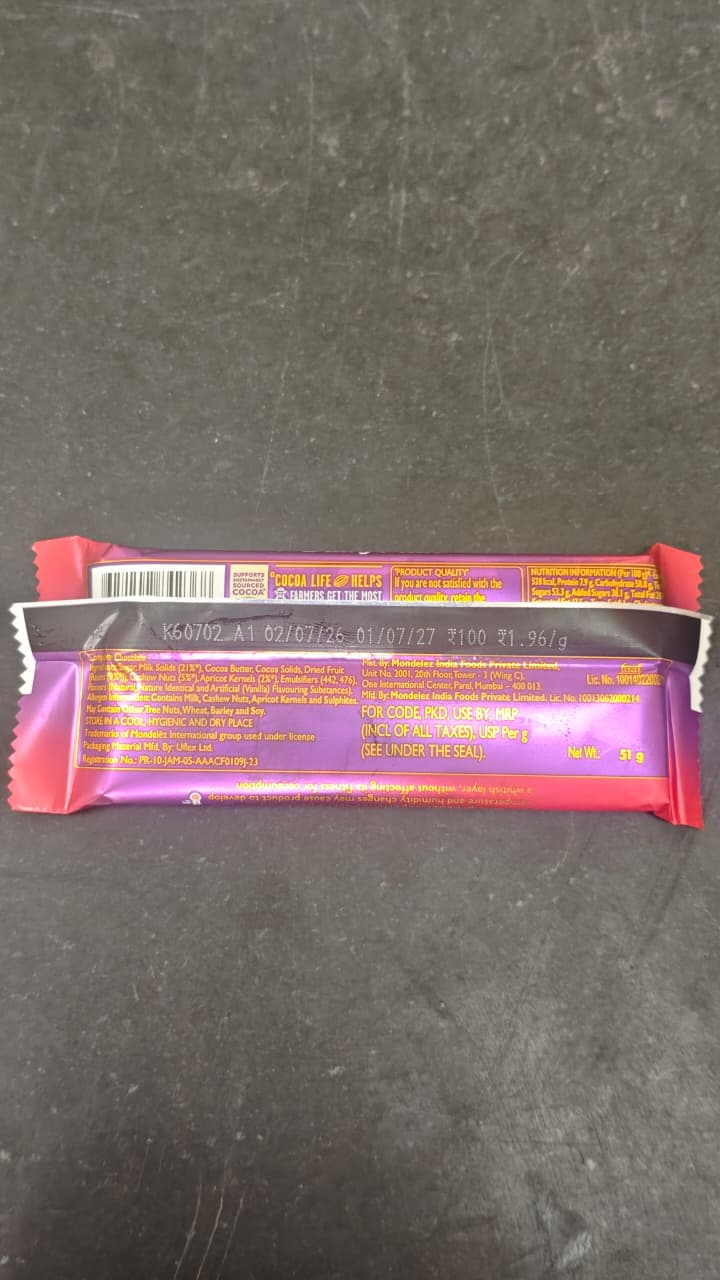EXP_Date: (355, 623, 439, 648)
Ingredients: (79, 649, 359, 717)
MFG_Date: (261, 622, 350, 648)
MRP: (445, 627, 496, 652)
